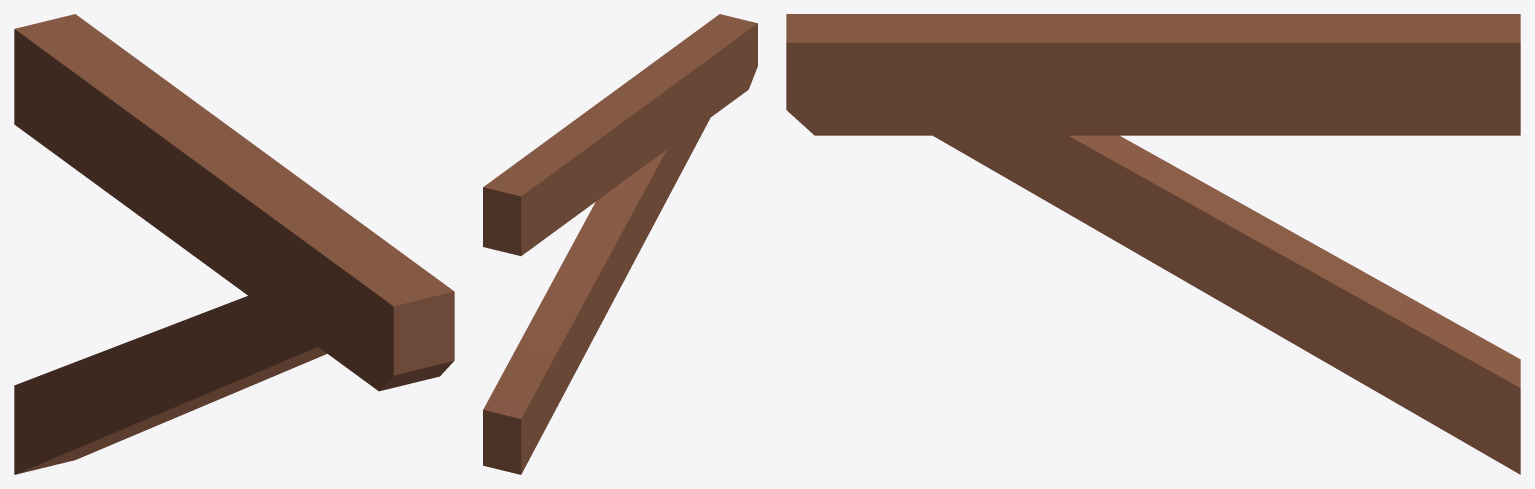
File: LightWoodBuildingSmallSupportArm1.fbx
3 renders of one model, left to right at view 1: azimuth 30°, elevation 25°; view 2: azimuth 150°, elevation 25°; view 3: azimuth 270°, elevation 25°, orthographic. The views are drawn at different scales.
Visible parts, largest first — view 1: LightWoodBuildingSmallSupportArm1; view 2: LightWoodBuildingSmallSupportArm1; view 3: LightWoodBuildingSmallSupportArm1.
Part boxes in pixels (x1,y1,x2,y2): LightWoodBuildingSmallSupportArm1: [14, 14, 454, 474]; LightWoodBuildingSmallSupportArm1: [483, 14, 757, 474]; LightWoodBuildingSmallSupportArm1: [786, 14, 1520, 474].
Size of the model in its own units: 29.45 by 206 by 317.
